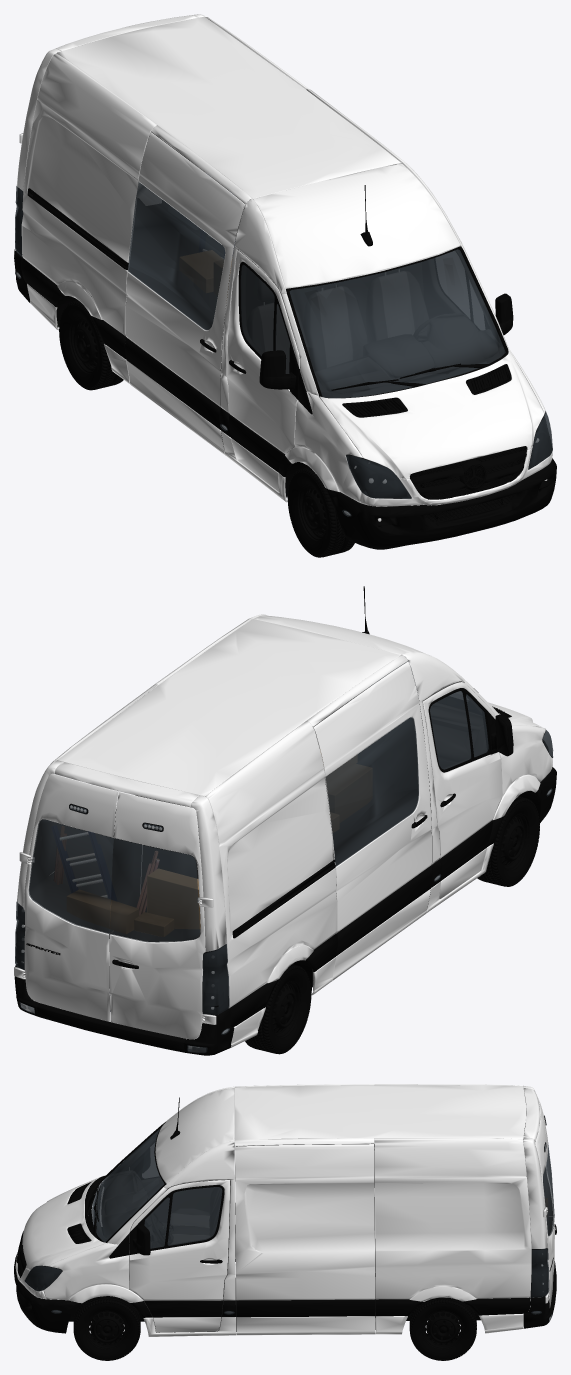
The model's file is sprinter.glb.
The picture shows the model from 3 angles, top to bottom: view 1: azimuth 30°, elevation 25°; view 2: azimuth 150°, elevation 25°; view 3: azimuth 270°, elevation 25°; orthographic projection. The views are drawn at different scales.
Visible parts, largest first — view 1: body; view 2: body; view 3: body.
Part boxes in pixels (x1,y1,x2,y2): body: (14, 14, 556, 557); body: (14, 586, 556, 1055); body: (14, 1084, 556, 1360).
Bounding box in the file's own units: 2.32 × 2.73 × 5.91.
Materials: 6 (3 with a texture image).
